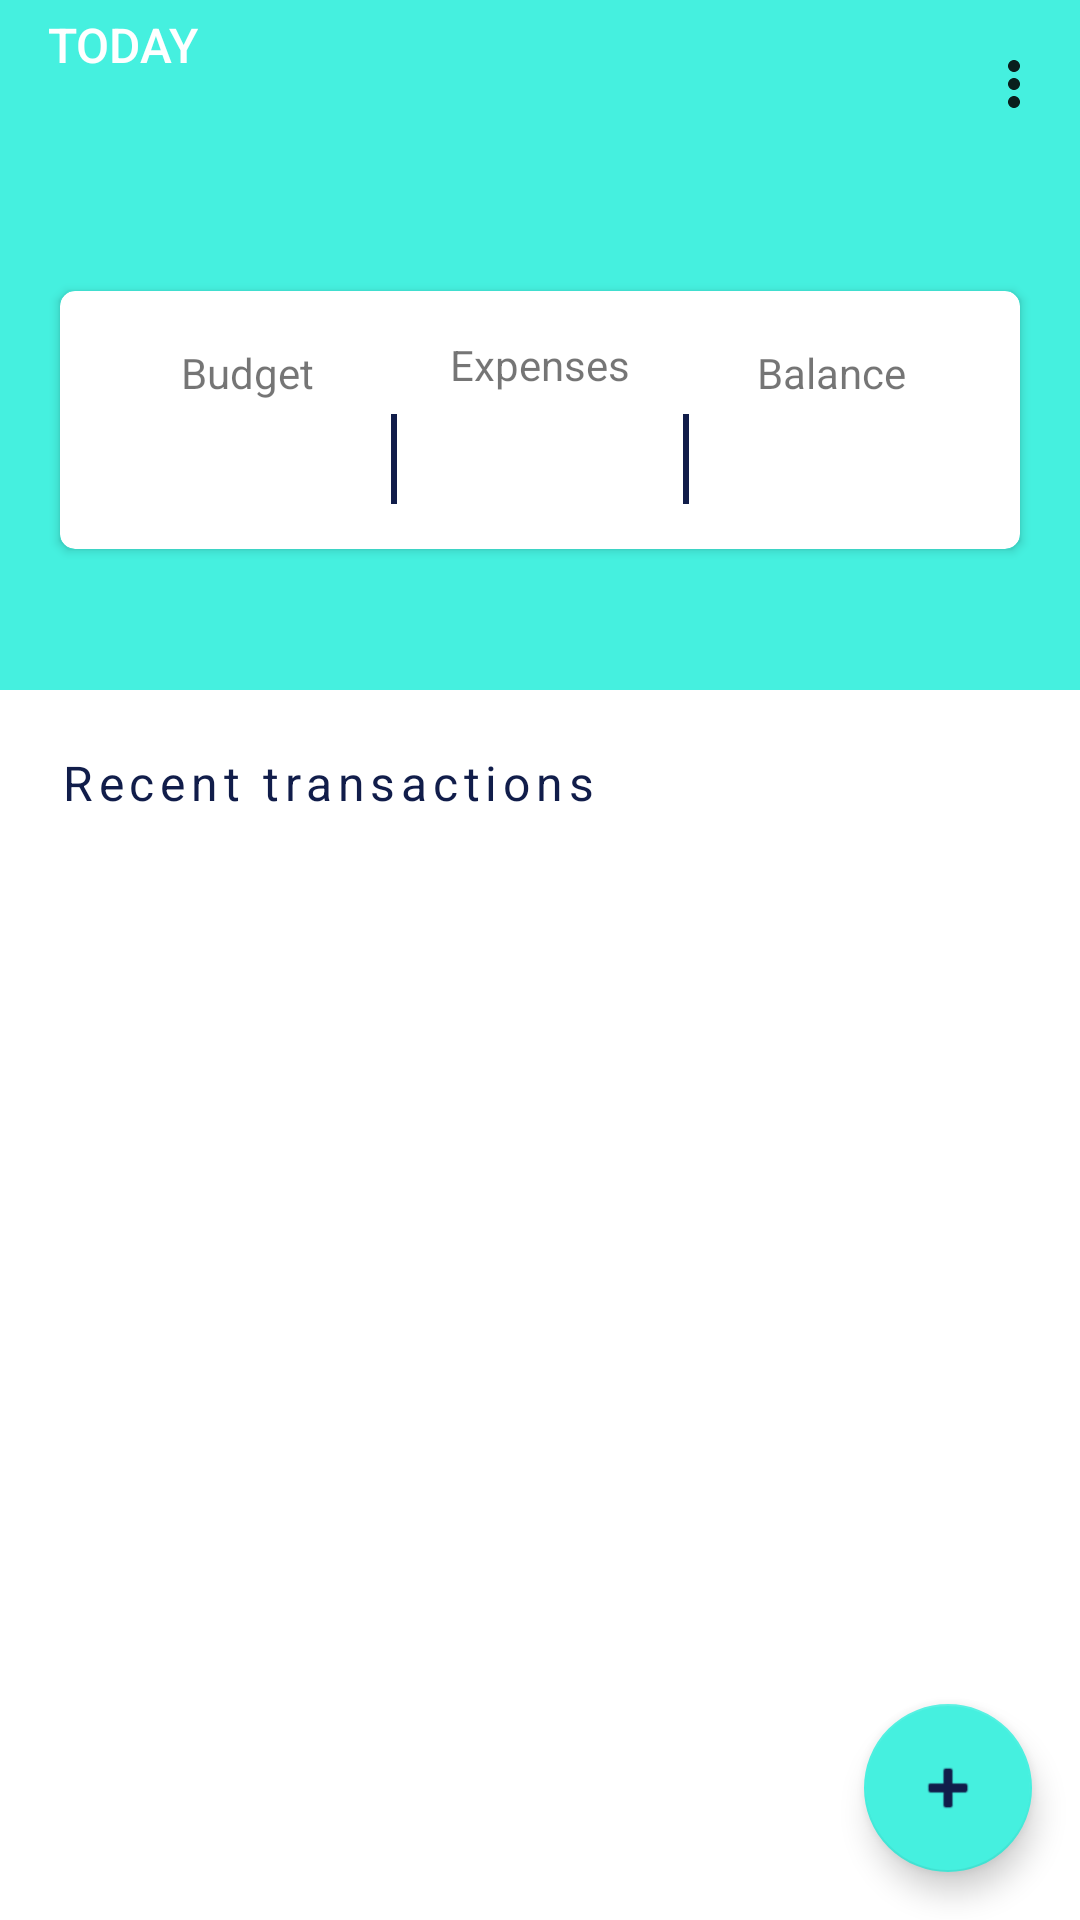

Icons on this 1080*1920 Android screen, each with the point to tap as (x,y):
New transaction: (948,1788)
